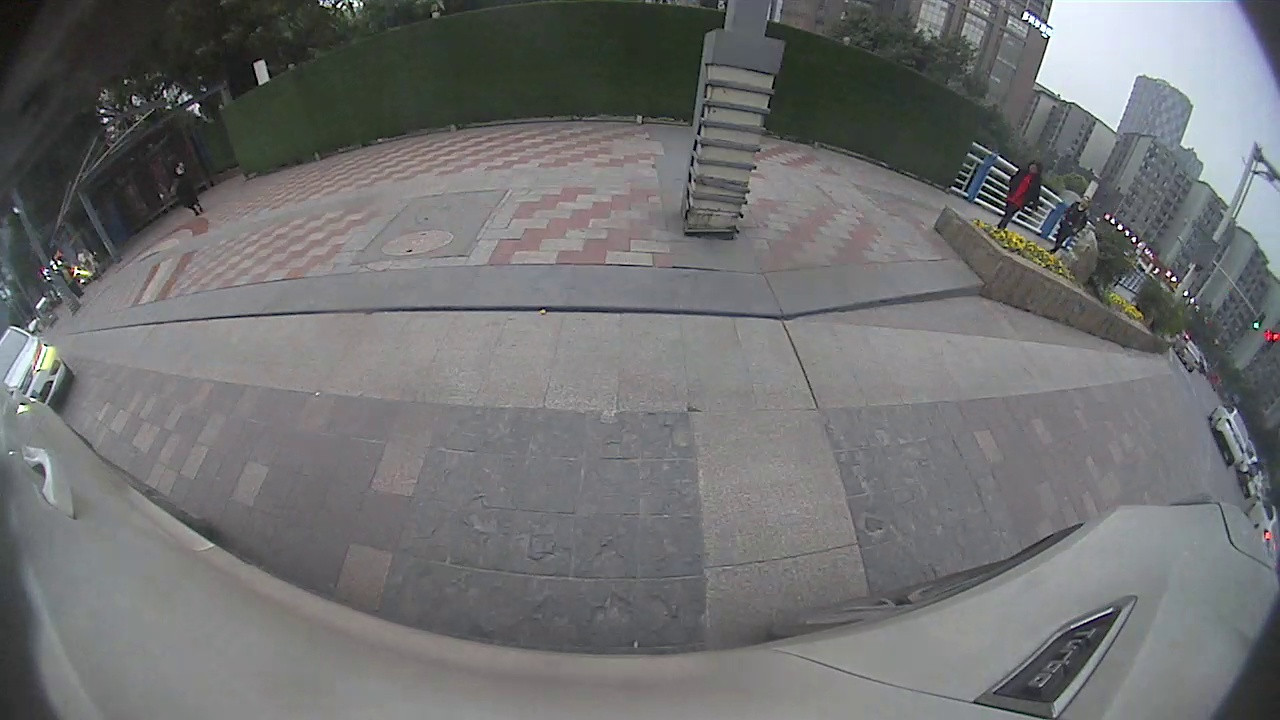car: (1, 315, 77, 412)
person: (1000, 160, 1044, 234)
